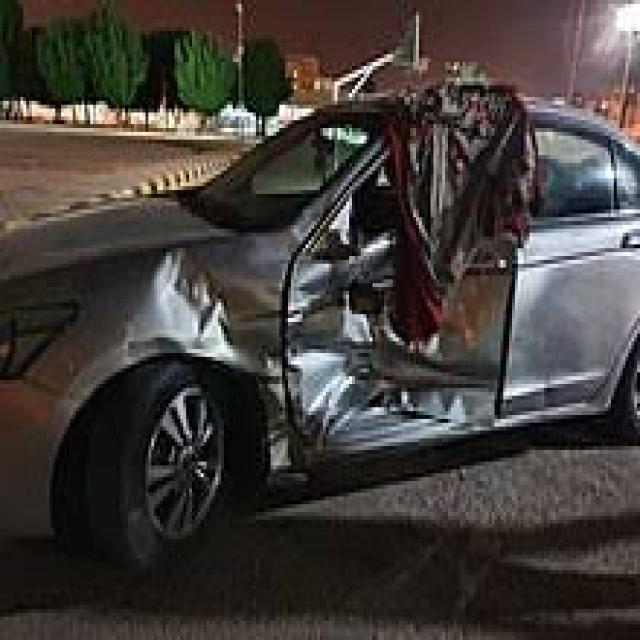accident: (55, 56, 637, 528)
